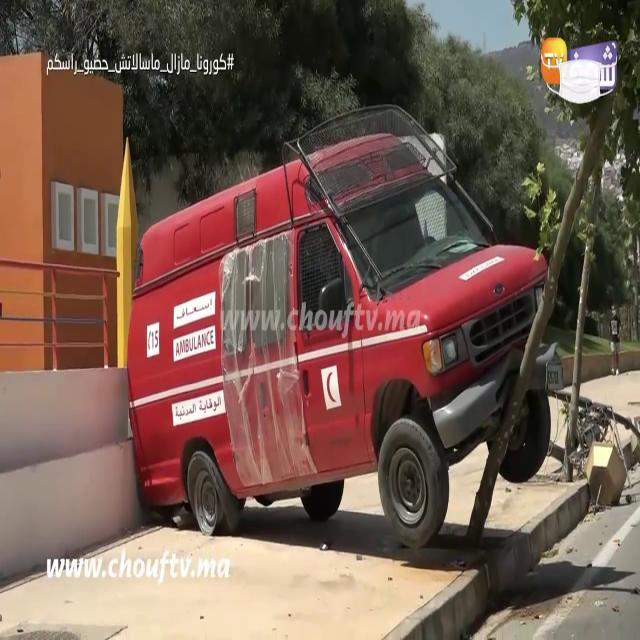ambulance: (124, 106, 554, 554)
